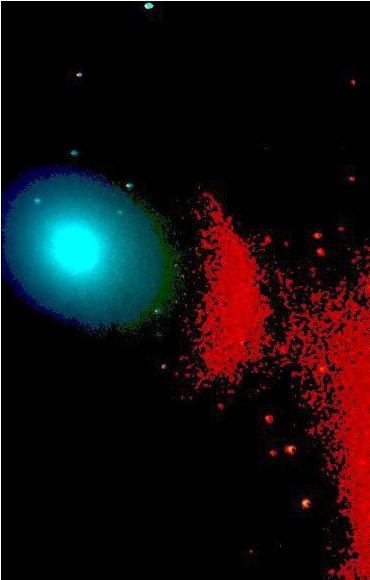star: (100, 178, 130, 208)
